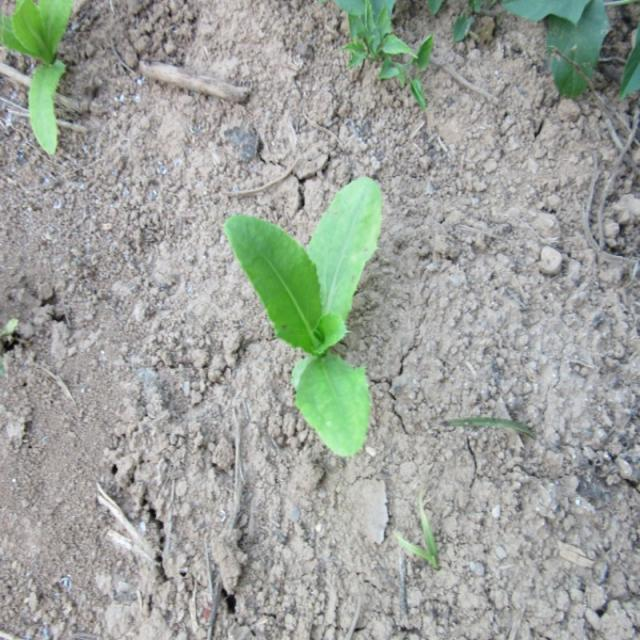cs: (222, 175, 385, 460)
